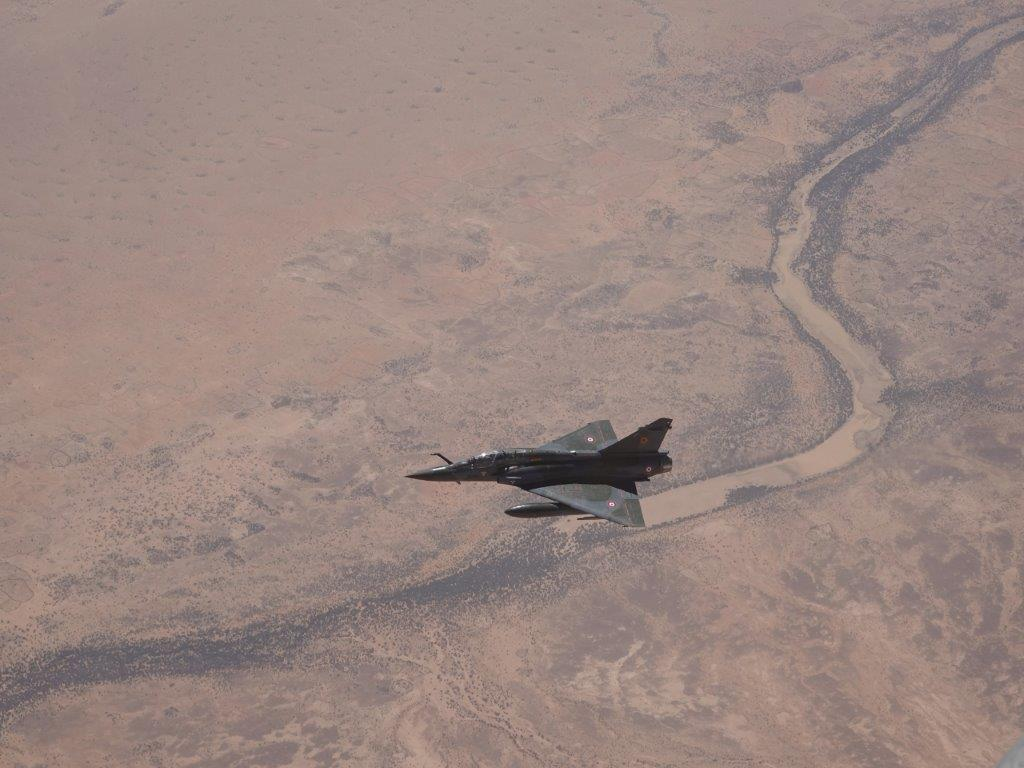Mirage2000: (402, 417, 674, 528)
